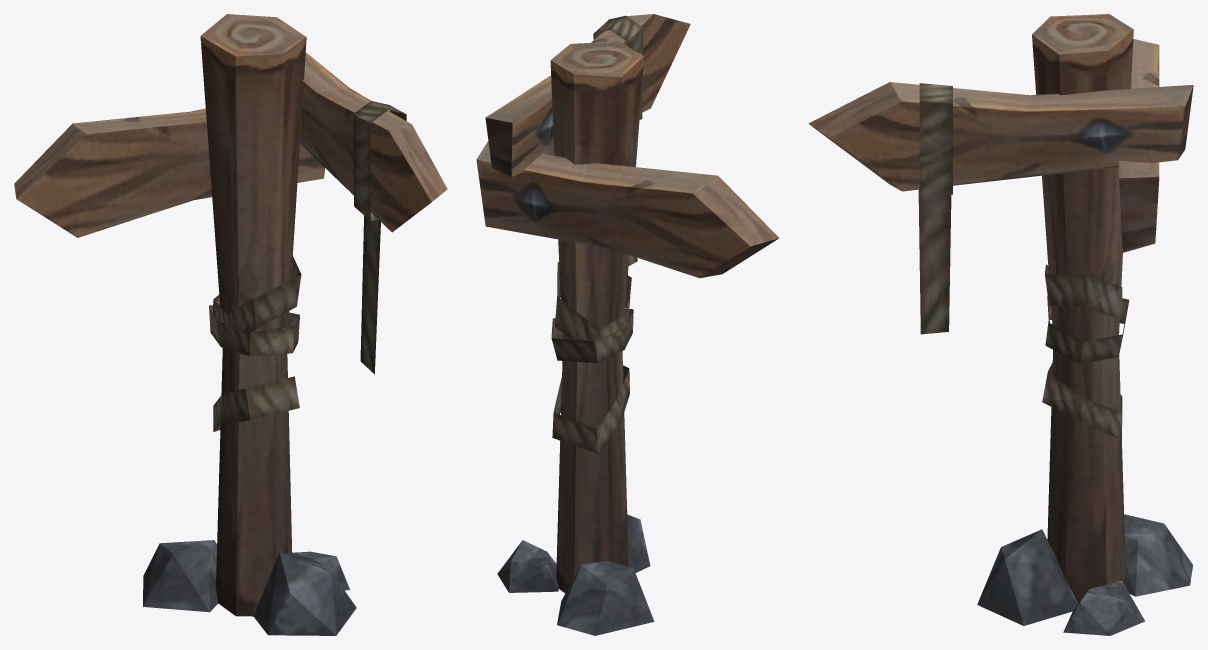
The model's file is mine_signpost_large01.fbx.
3 views of the same model, side by side, from view 1: azimuth 30°, elevation 25°; view 2: azimuth 150°, elevation 25°; view 3: azimuth 270°, elevation 25° (orthographic). The views are drawn at different scales.
Parts seen in each view (by area): view 1: obj0.041; view 2: obj0.041; view 3: obj0.041.
Part boxes in pixels (x1,y1,x2,y2): obj0.041: [14, 14, 447, 635]; obj0.041: [476, 14, 779, 635]; obj0.041: [808, 14, 1193, 635].
Size of the model in its own units: 1.88 by 3.23 by 2.01.
